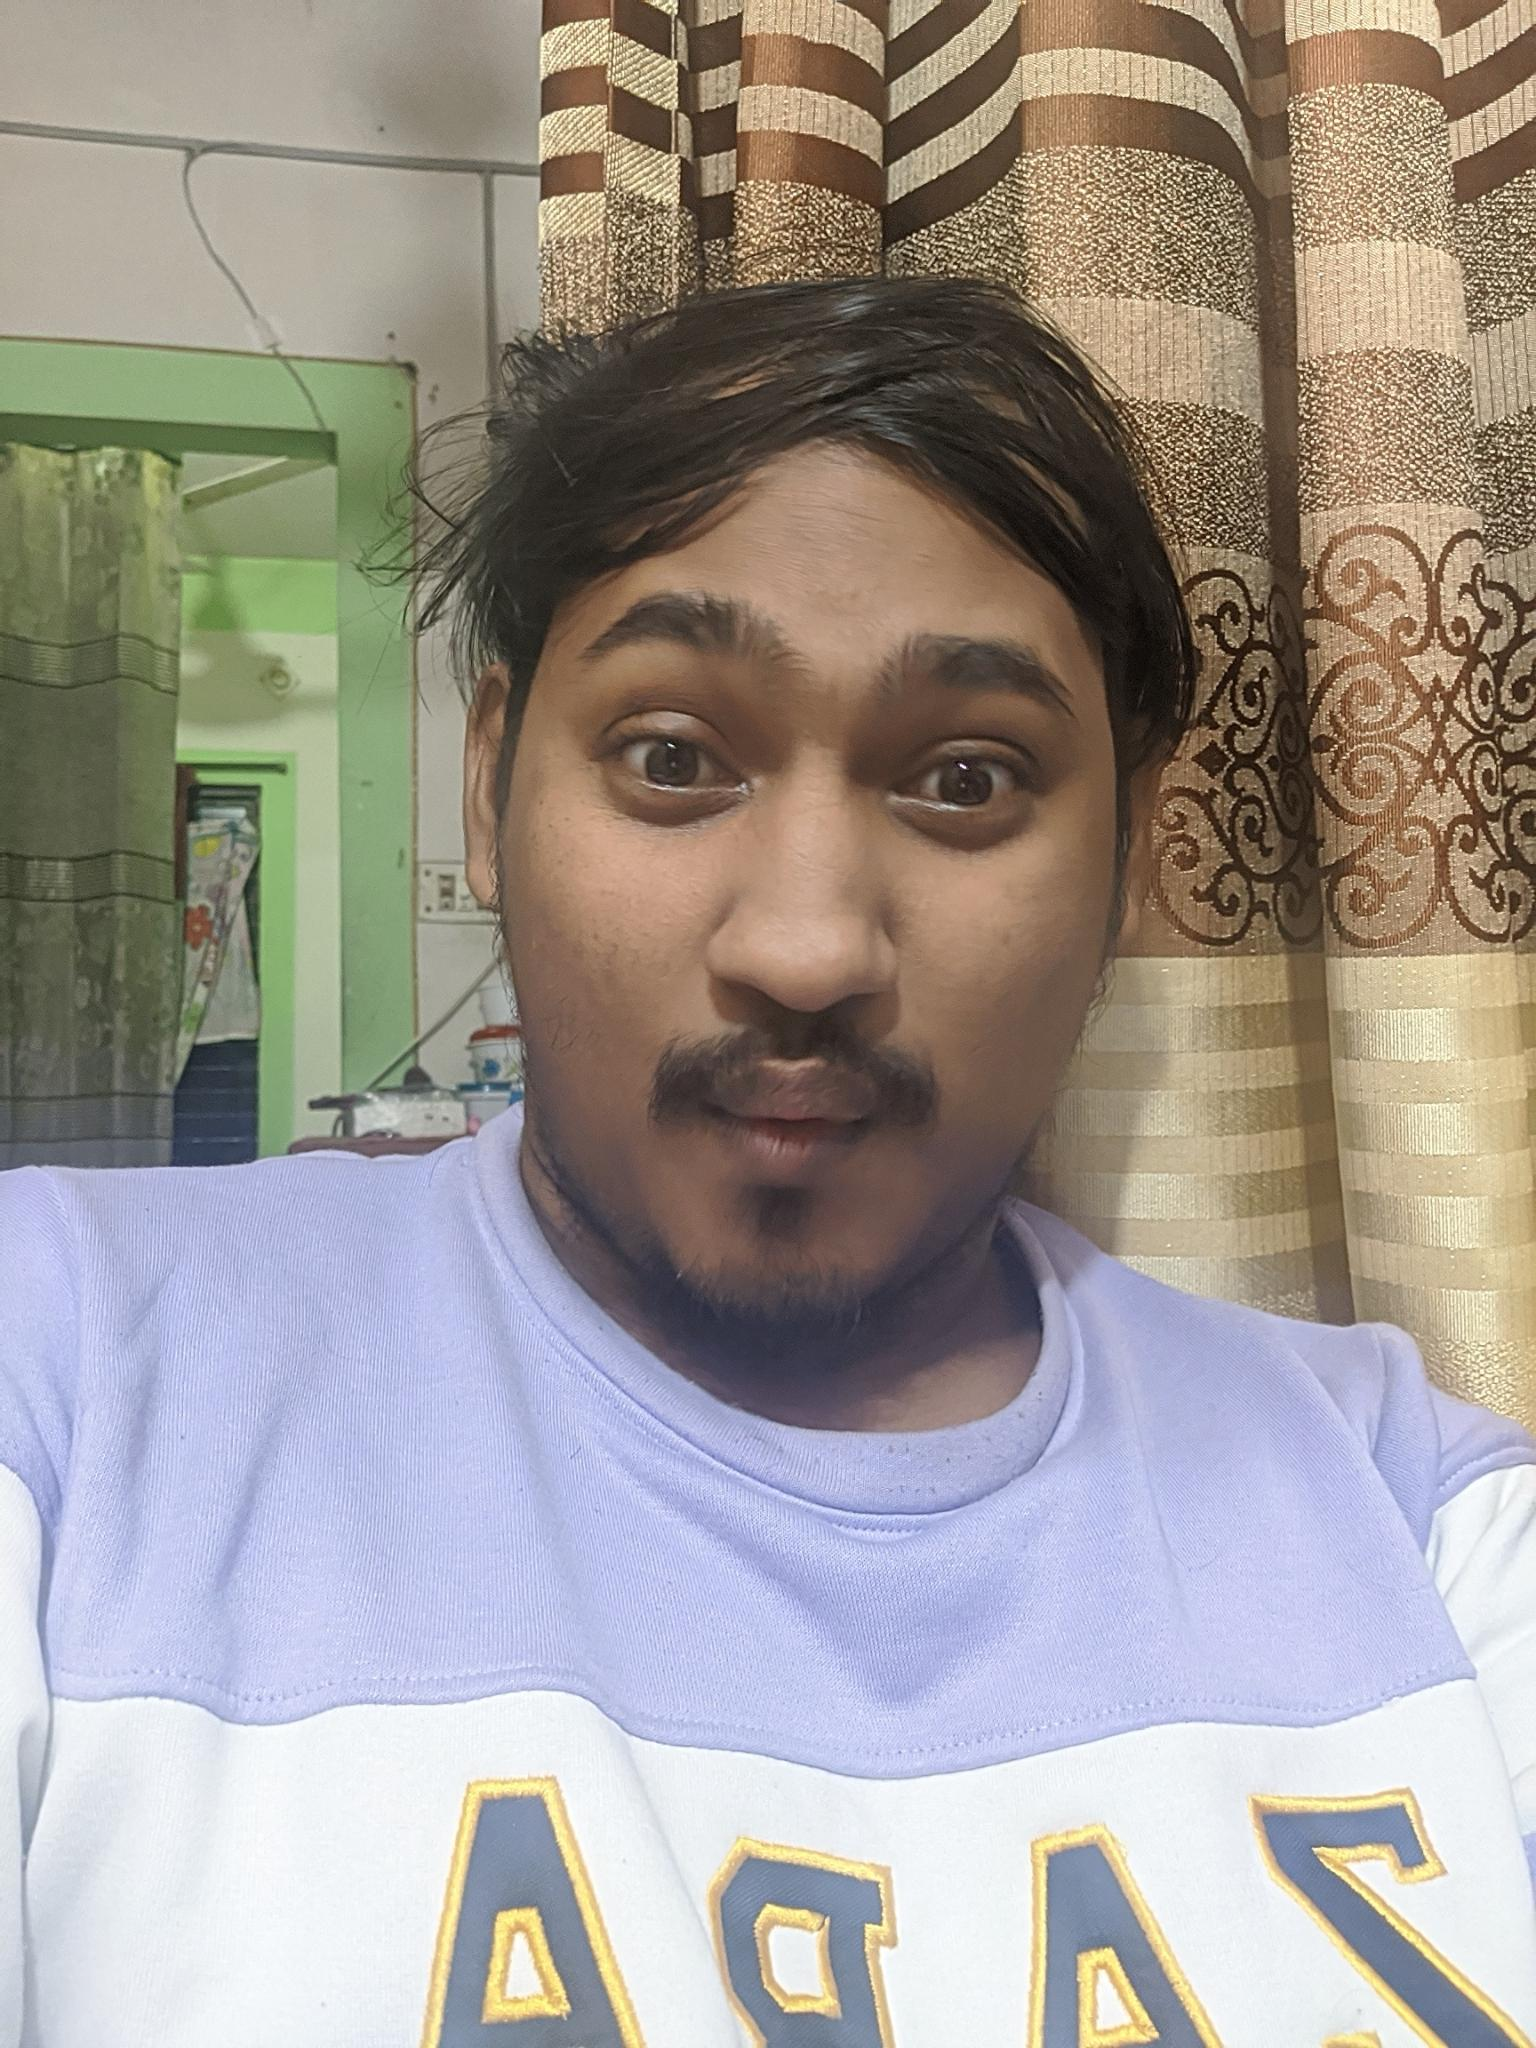Surprise: (513, 539, 1102, 1329)
